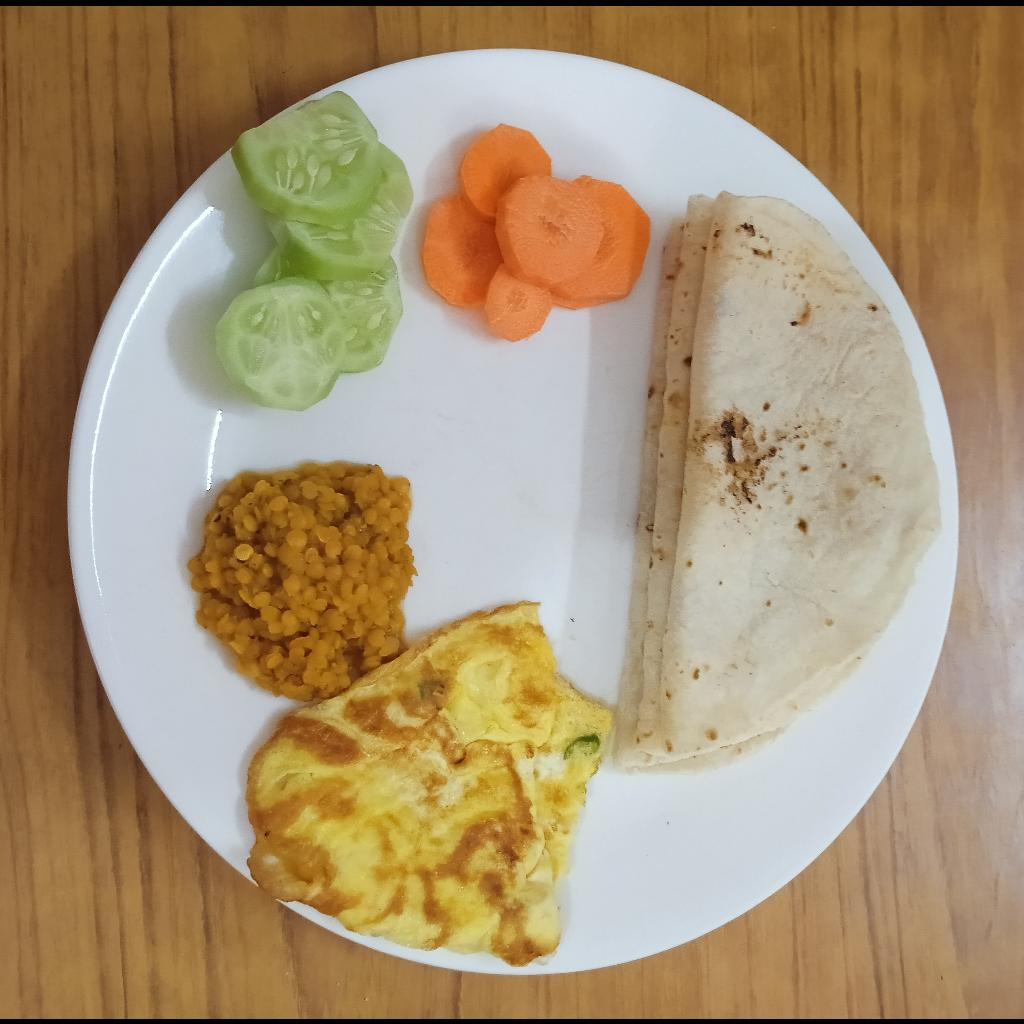carrot: (417, 122, 651, 342)
cucumber: (215, 89, 416, 410)
daal: (187, 462, 413, 699)
egg-poached: (246, 601, 614, 968)
ruti: (612, 188, 943, 776)
